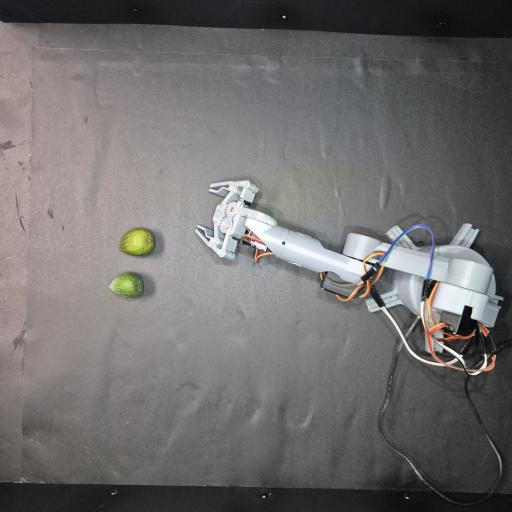higo: (118, 228, 155, 256), (109, 272, 144, 298)
